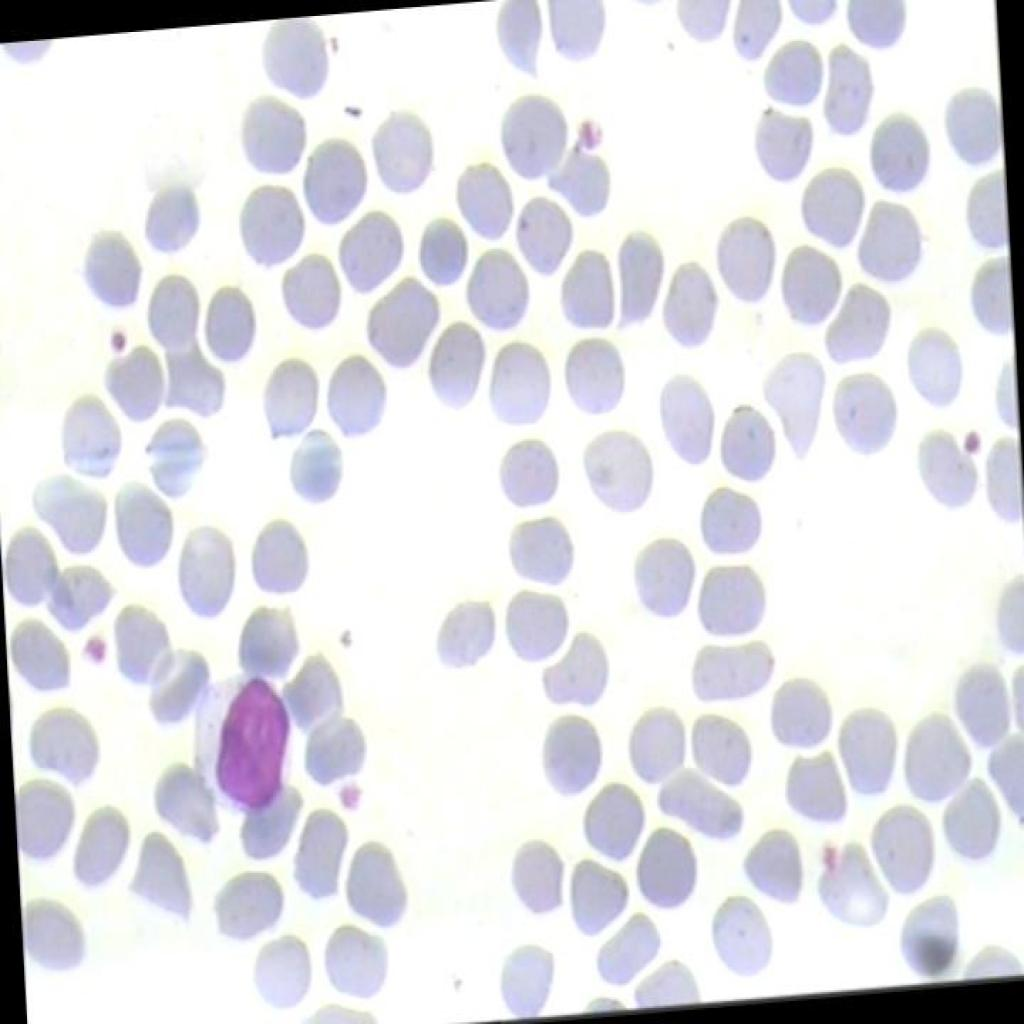Limfosit: (178, 650, 303, 836)
Platelet: (66, 622, 120, 681), (944, 402, 990, 469), (321, 761, 370, 823), (563, 108, 617, 164), (808, 829, 852, 887), (104, 324, 139, 366), (332, 619, 358, 649)
